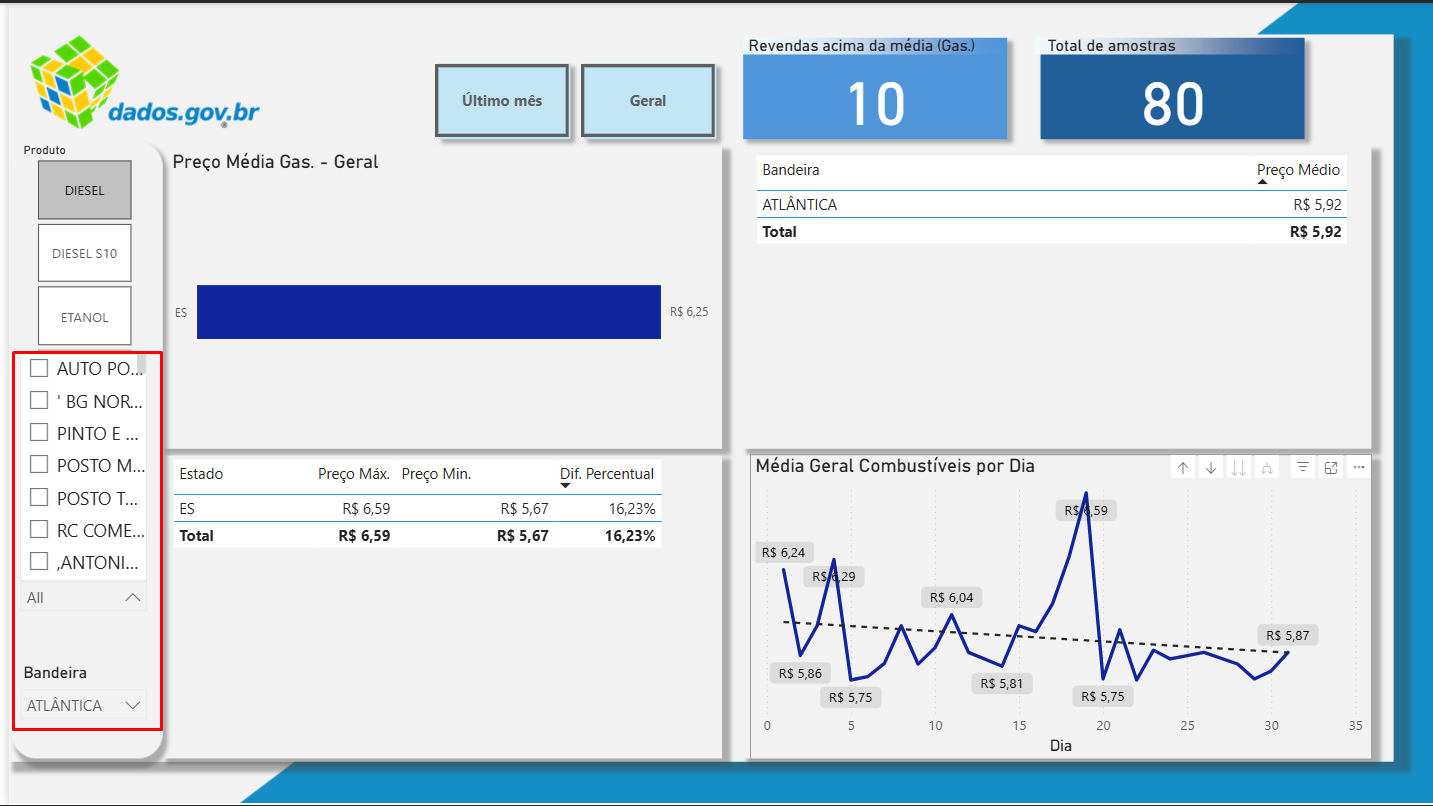

Layout of this report page (visuals, bound fields, positions):
{"tool":"powerbi","page":{"name":"Relatório de Combustíveis","canvas":[1280,720],"ordinal":0},"visuals":[{"type":"card","title":"Revendas acima da média (Gas.)","fields":{"Values":["Medidas.Revendas acima da Media"]},"box":[659,30.5,236.1,89.8],"z":1000},{"type":"tableEx","fields":{"Values":["dBandeiras.Bandeira","Medidas.Media Geral Combustiveis"]},"box":[665.2,132,558.4,266.6],"z":2000},{"type":"tableEx","fields":{"Values":["dEstados.Estado - Sigla","Max(fPrecos.Valor de Venda)","Min(fPrecos.Valor de Venda)1","Medidas.Dif Percent Diesel"]},"box":[141.8,404.9,498.3,274.7],"z":3000},{"type":"lineChart","title":"Média Geral Combustíveis por Dia","fields":{"Category":["fPrecos.Data da Coleta.Variation.Hierarquia de datas.Ano","fPrecos.Data da Coleta.Variation.Hierarquia de datas.Trimestre","fPrecos.Data da Coleta.Variation.Hierarquia de datas.Mês","fPrecos.Data da Coleta.Variation.Hierarquia de datas.Dia"],"Y":["Medidas.Media Geral Combustiveis"]},"box":[665.2,404.9,558.4,274.7],"z":4000},{"type":"slicer","fields":{"Values":["dProdutos.Produto"]},"box":[0,120.3,133.8,363.6],"z":5000},{"type":"card","title":"Total de amostras","fields":{"Values":["Medidas.Total Amostras"]},"box":[927.4,30.5,236.1,89.8],"z":6000},{"type":"clusteredBarChart","title":"Preço Média Gas. - Geral","fields":{"Category":["dEstados.Estado - Sigla"],"Y":["Medidas.Preco Media Gas"]},"box":[141.8,132,498.3,266.6],"z":7000},{"type":"slicer","fields":{"Values":["dRevenda.Revenda"]},"box":[0,491.1,133.8,97],"z":8000},{"type":"slicer","fields":{"Values":["dBandeiras.Bandeira"]},"box":[0,588,133.8,80.8],"z":9000},{"type":"actionButton","box":[382.4,54.8,120.3,65.5],"z":10000},{"type":"actionButton","box":[513.5,54.8,120.3,65.5],"z":11000}]}

Visuals, with their boxes in screenshot pixels (x1, y1, x2, y2), scaled from the page's 1280x720 canvas onto the 1433x806 screenshot:
"Revendas acima da média (Gas.)" card: <bbox>738, 34, 1002, 135</bbox>
tableEx - dBandeiras.Bandeira x Medidas.Media Geral Combustiveis: <bbox>745, 148, 1370, 446</bbox>
tableEx - dEstados.Estado - Sigla x Max(fPrecos.Valor de Venda): <bbox>159, 453, 717, 761</bbox>
"Média Geral Combustíveis por Dia" lineChart: <bbox>745, 453, 1370, 761</bbox>
slicer - dProdutos.Produto: <bbox>0, 135, 150, 542</bbox>
"Total de amostras" card: <bbox>1038, 34, 1303, 135</bbox>
"Preço Média Gas. - Geral" clusteredBarChart: <bbox>159, 148, 717, 446</bbox>
slicer - dRevenda.Revenda: <bbox>0, 550, 150, 658</bbox>
slicer - dBandeiras.Bandeira: <bbox>0, 658, 150, 749</bbox>
actionButton: <bbox>428, 61, 563, 135</bbox>
actionButton: <bbox>575, 61, 710, 135</bbox>
